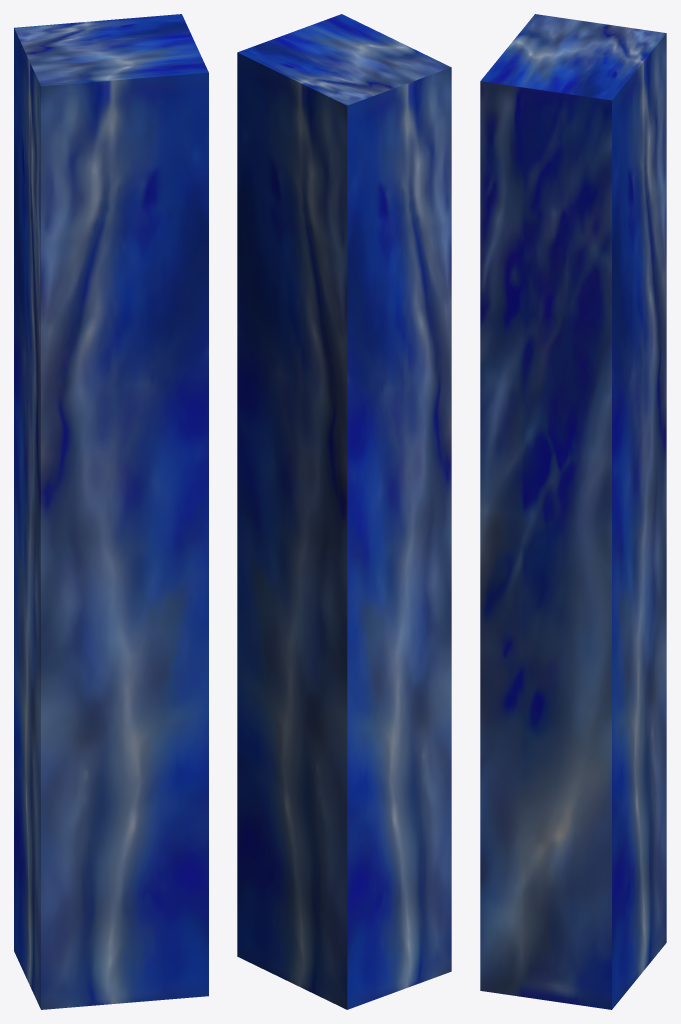
File: BlueBlocks_12.gltf
3 views of the same model, side by side, from view 1: azimuth 30°, elevation 25°; view 2: azimuth 150°, elevation 25°; view 3: azimuth 270°, elevation 25° (orthographic). The views are drawn at different scales.
Parts seen in each view (by area): view 1: BlueBlocks_12; view 2: BlueBlocks_12; view 3: BlueBlocks_12.
Boxes of the visible parts, x1=… form: BlueBlocks_12: x1=14, y1=14, x2=208, y2=1009; BlueBlocks_12: x1=237, y1=14, x2=451, y2=1009; BlueBlocks_12: x1=480, y1=14, x2=666, y2=1009.
Size of the model in its own units: 3.33 by 16.34 by 3.04.
Materials: 1 (1 with a texture image).
